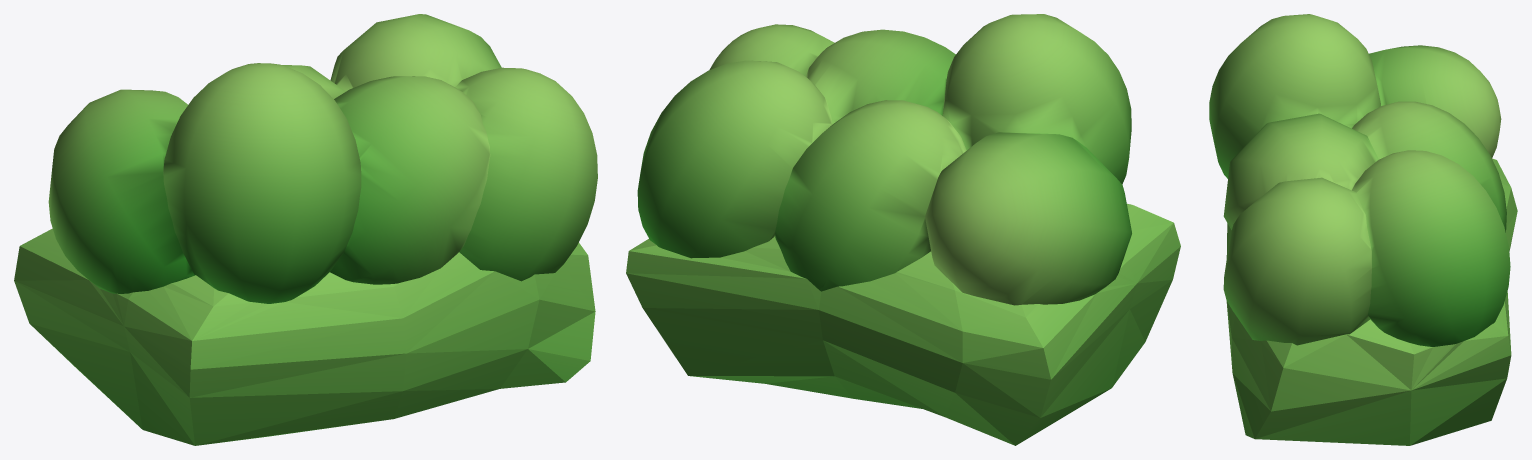
File: watermelon_pile.fbx
The picture shows the model from 3 angles, left to right: view 1: azimuth 30°, elevation 25°; view 2: azimuth 150°, elevation 25°; view 3: azimuth 270°, elevation 25°; orthographic projection. The views are drawn at different scales.
Visible parts, largest first — view 1: watermelon_pile; view 2: watermelon_pile; view 3: watermelon_pile.
Part boxes in pixels (bbox=[...]): watermelon_pile: bbox=[14, 14, 597, 445]; watermelon_pile: bbox=[626, 14, 1180, 445]; watermelon_pile: bbox=[1209, 14, 1517, 445].
Bounding box in the file's own units: 422 × 306 × 280.
